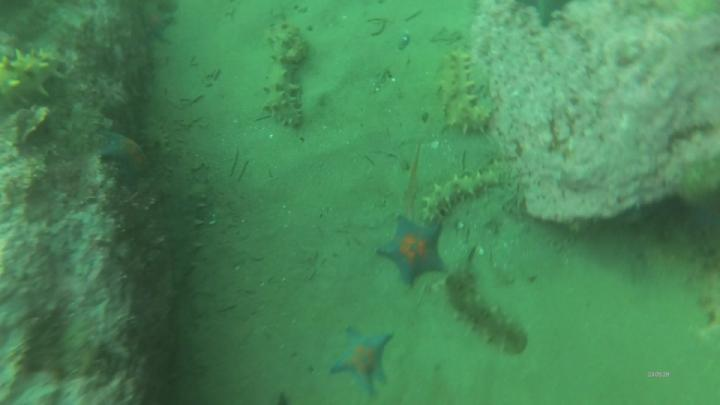holothurian: (450, 270, 530, 358), (263, 29, 308, 134), (1, 39, 63, 107), (449, 48, 495, 139), (423, 165, 505, 214)
starfish: (378, 213, 448, 287), (332, 325, 396, 401), (103, 130, 153, 184)
